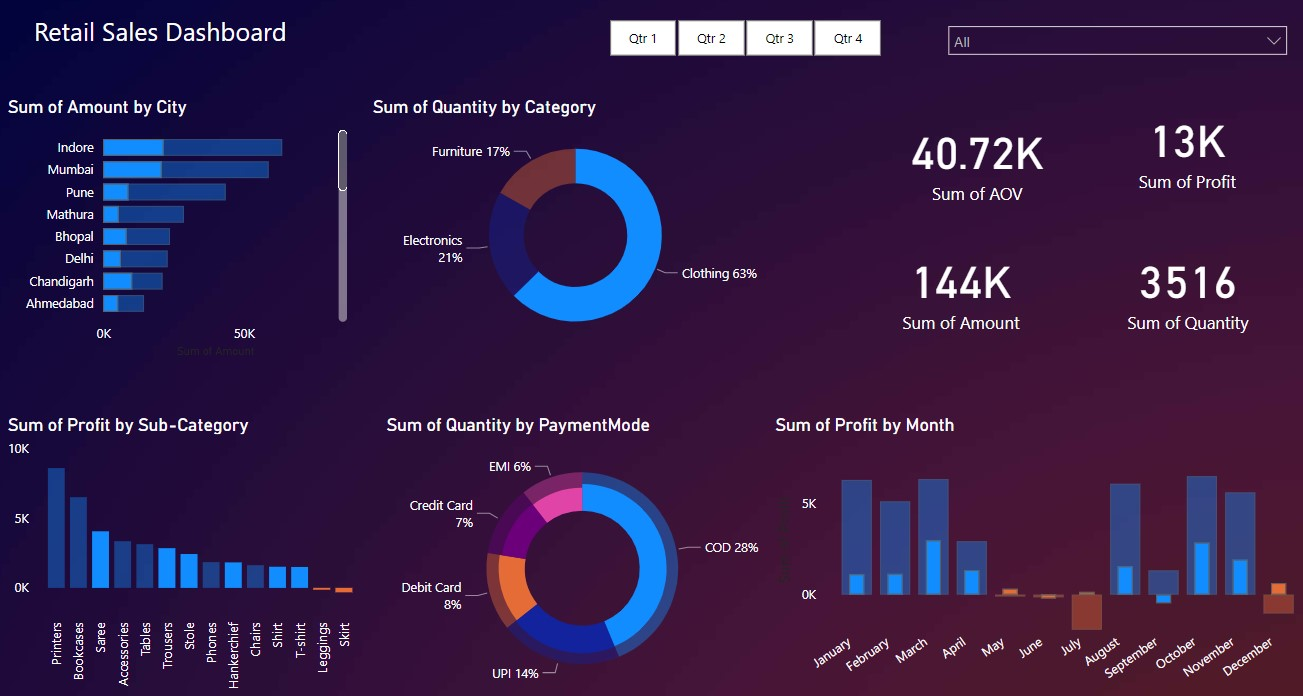

Layout of this report page (visuals, bound fields, positions):
{"tool":"powerbi","page":{"name":"Page 1","canvas":[1280,720],"ordinal":0},"visuals":[{"type":"clusteredColumnChart","fields":{"Y":["Sum(Details.Profit)"],"Category":["Orders.Order Date.Variation.Date Hierarchy.Month"]},"box":[747.4,409.4,518.9,274.9],"z":0},{"type":"textbox","box":[41.7,23.8,367.7,51.2],"z":1000},{"type":"columnChart","fields":{"Category":["Details.Sub-Category"],"Y":["Sum(Details.Profit)"]},"box":[16.7,409.4,347.5,283.2],"z":2000},{"type":"donutChart","fields":{"Y":["Sum(Details.Quantity)"],"Category":["Details.Category"]},"box":[364.2,107.1,396.3,245.2],"z":3000},{"type":"donutChart","fields":{"Y":["Sum(Details.Quantity)"],"Category":["Details.PaymentMode"]},"box":[377.3,409.4,383.2,274.9],"z":4000},{"type":"card","fields":{"Values":["Sum(Details.Amount)"]},"box":[852.1,241.6,154.7,97.6],"z":5000},{"type":"card","fields":{"Values":["Sum(Details.Profit)"]},"box":[1067.5,107.1,154.7,97.6],"z":6000},{"type":"card","fields":{"Values":["Sum(Details.Quantity)"]},"box":[1068.7,242.8,153.5,96.4],"z":7000},{"type":"card","fields":{"Values":["Sum(Details.AOV)"]},"box":[866.4,119,157.1,97.6],"z":8000},{"type":"barChart","fields":{"Category":["Orders.City"],"Y":["Sum(Details.Amount)"]},"box":[16.7,107.1,333.2,253.5],"z":9000},{"type":"slicer","fields":{"Values":["Orders.Order Date.Variation.Date Hierarchy.Quarter"]},"box":[568.9,27.4,308.2,47.6],"z":10000},{"type":"slicer","fields":{"Values":["Orders.City"]},"box":[906.8,29.8,342.7,89.3],"z":11000}]}

Visuals, with their boxes on the page's 1280x720 design canvas (x1, y1, x2, y2). These are canvas units, not pixel positions in the 1303x696 screenshot, which may show the page scaled, cropped or inside an application window:
clusteredColumnChart - Sum(Details.Profit) x Orders.Order Date.Variation.Date Hierarchy.Month: select_region(747, 409, 1266, 684)
textbox: select_region(42, 24, 409, 75)
columnChart - Details.Sub-Category x Sum(Details.Profit): select_region(17, 409, 364, 693)
donutChart - Sum(Details.Quantity) x Details.Category: select_region(364, 107, 760, 352)
donutChart - Sum(Details.Quantity) x Details.PaymentMode: select_region(377, 409, 760, 684)
card - Sum(Details.Amount): select_region(852, 242, 1007, 339)
card - Sum(Details.Profit): select_region(1068, 107, 1222, 205)
card - Sum(Details.Quantity): select_region(1069, 243, 1222, 339)
card - Sum(Details.AOV): select_region(866, 119, 1024, 217)
barChart - Orders.City x Sum(Details.Amount): select_region(17, 107, 350, 361)
slicer - Orders.Order Date.Variation.Date Hierarchy.Quarter: select_region(569, 27, 877, 75)
slicer - Orders.City: select_region(907, 30, 1250, 119)
